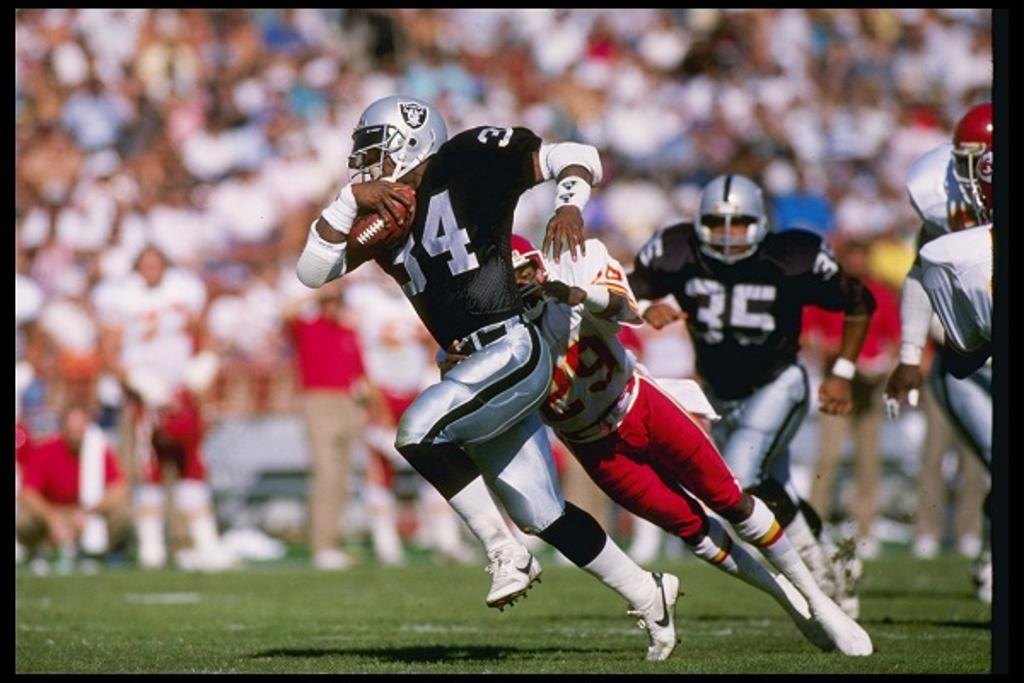face: (354, 140, 414, 206), (694, 204, 760, 260)
